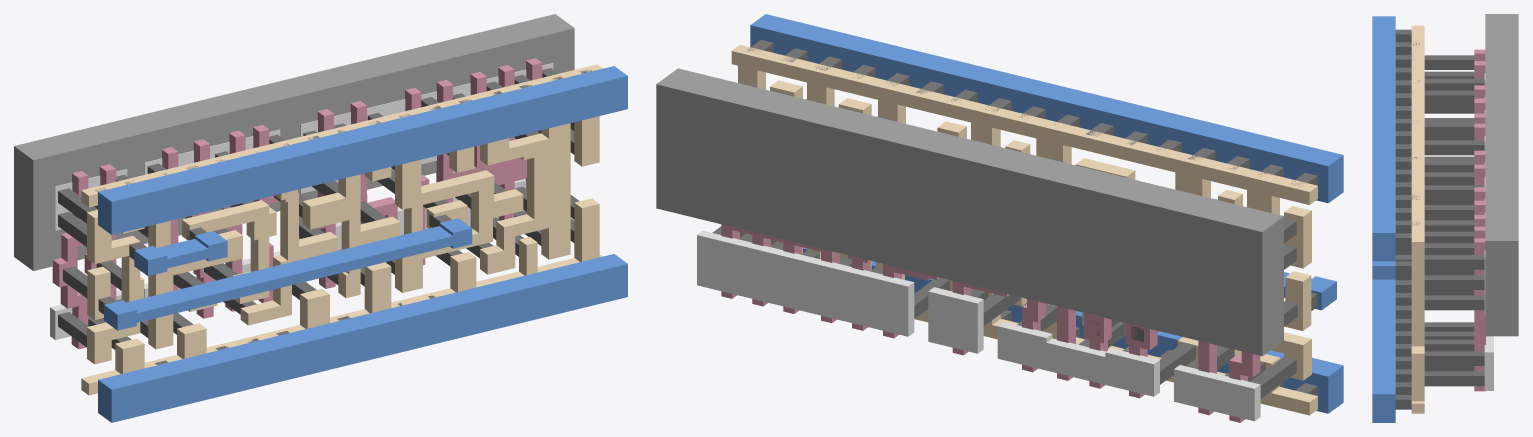
Rendered from sky130_fd_sc_hd__dlclkp_4.gds.gltf.
The picture shows the model from 3 angles, left to right: view 1: azimuth 30°, elevation 25°; view 2: azimuth 150°, elevation 25°; view 3: azimuth 270°, elevation 25°; orthographic projection. The views are drawn at different scales.
Visible parts, largest first — view 1: sky130_fd_sc_hd__dlclkp_4_met1, sky130_fd_sc_hd__dlclkp_4_li1, sky130_fd_sc_hd__dlclkp_4_nwell, sky130_fd_sc_hd__dlclkp_4_poly, sky130_fd_sc_hd__dlclkp_4_licon, sky130_fd_sc_hd__dlclkp_4_diff, sky130_fd_sc_hd__dlclkp_4_mcon; view 2: sky130_fd_sc_hd__dlclkp_4_nwell, sky130_fd_sc_hd__dlclkp_4_li1, sky130_fd_sc_hd__dlclkp_4_diff, sky130_fd_sc_hd__dlclkp_4_met1, sky130_fd_sc_hd__dlclkp_4_poly, sky130_fd_sc_hd__dlclkp_4_licon, sky130_fd_sc_hd__dlclkp_4_mcon; view 3: sky130_fd_sc_hd__dlclkp_4_licon, sky130_fd_sc_hd__dlclkp_4_nwell, sky130_fd_sc_hd__dlclkp_4_met1, sky130_fd_sc_hd__dlclkp_4_mcon, sky130_fd_sc_hd__dlclkp_4_li1, sky130_fd_sc_hd__dlclkp_4_poly, sky130_fd_sc_hd__dlclkp_4_diff.
Part boxes in pixels (<box>): sky130_fd_sc_hd__dlclkp_4_met1: <box>98,66,627,422</box>; sky130_fd_sc_hd__dlclkp_4_li1: <box>81,64,602,395</box>; sky130_fd_sc_hd__dlclkp_4_nwell: <box>14,14,574,270</box>; sky130_fd_sc_hd__dlclkp_4_poly: <box>52,58,542,349</box>; sky130_fd_sc_hd__dlclkp_4_licon: <box>58,68,579,349</box>; sky130_fd_sc_hd__dlclkp_4_diff: <box>50,63,553,339</box>; sky130_fd_sc_hd__dlclkp_4_mcon: <box>95,70,592,365</box>; sky130_fd_sc_hd__dlclkp_4_nwell: <box>656,68,1283,356</box>; sky130_fd_sc_hd__dlclkp_4_li1: <box>731,44,1317,415</box>; sky130_fd_sc_hd__dlclkp_4_diff: <box>697,230,1260,421</box>; sky130_fd_sc_hd__dlclkp_4_met1: <box>750,14,1343,413</box>; sky130_fd_sc_hd__dlclkp_4_poly: <box>721,224,1260,422</box>; sky130_fd_sc_hd__dlclkp_4_licon: <box>712,83,1297,398</box>; sky130_fd_sc_hd__dlclkp_4_mcon: <box>746,40,1317,395</box>; sky130_fd_sc_hd__dlclkp_4_licon: <box>1424,55,1484,386</box>; sky130_fd_sc_hd__dlclkp_4_nwell: <box>1485,14,1518,336</box>; sky130_fd_sc_hd__dlclkp_4_met1: <box>1372,16,1395,422</box>; sky130_fd_sc_hd__dlclkp_4_mcon: <box>1395,29,1419,409</box>; sky130_fd_sc_hd__dlclkp_4_li1: <box>1411,25,1424,413</box>; sky130_fd_sc_hd__dlclkp_4_poly: <box>1474,49,1485,391</box>; sky130_fd_sc_hd__dlclkp_4_diff: <box>1484,73,1493,390</box>.
Bounding box in the file's own units: 8.2 × 3.2 × 2.24.
